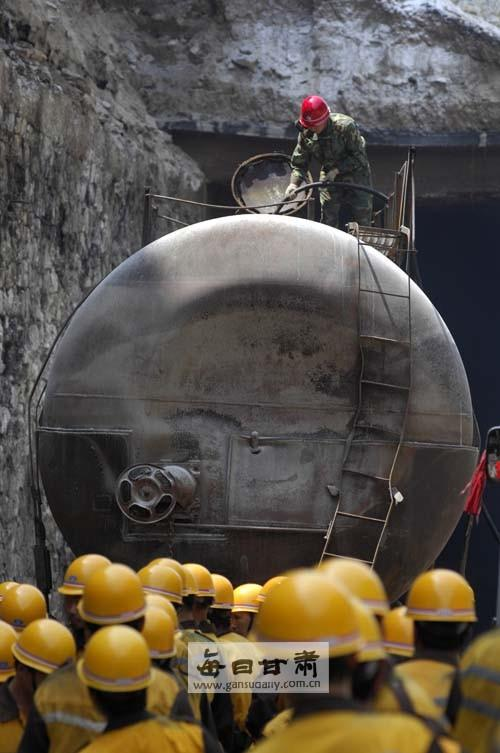helmet: (256, 572, 366, 656), (77, 626, 156, 693), (404, 570, 480, 623), (78, 565, 146, 623), (12, 620, 77, 676), (1, 585, 48, 631), (383, 606, 417, 658), (138, 567, 183, 605), (144, 609, 178, 659), (184, 563, 218, 598), (1, 619, 19, 685), (300, 96, 332, 129), (231, 583, 263, 615), (209, 575, 236, 612)
